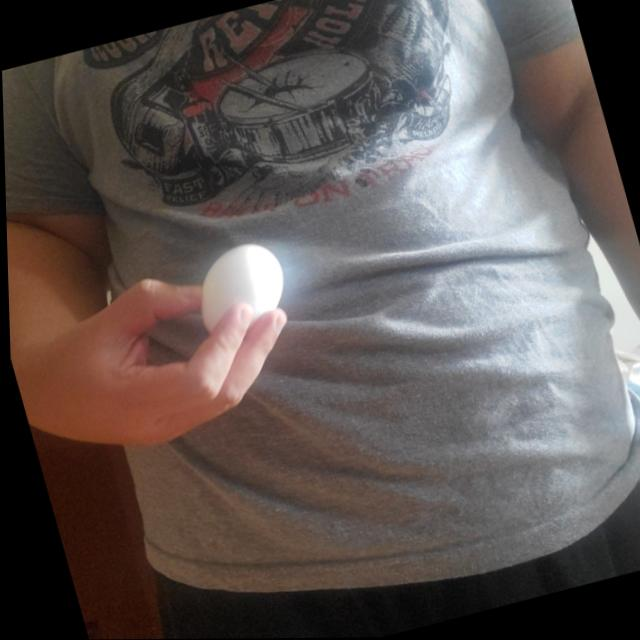egg: (182, 236, 294, 337)
